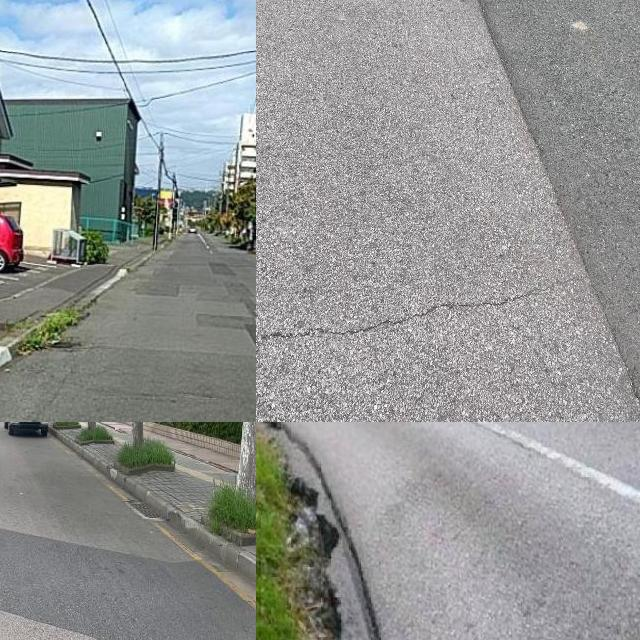Melintang: (256, 267, 596, 355)
Pinggir: (256, 422, 400, 640)
Sambungan: (477, 0, 640, 404), (0, 526, 256, 640)
